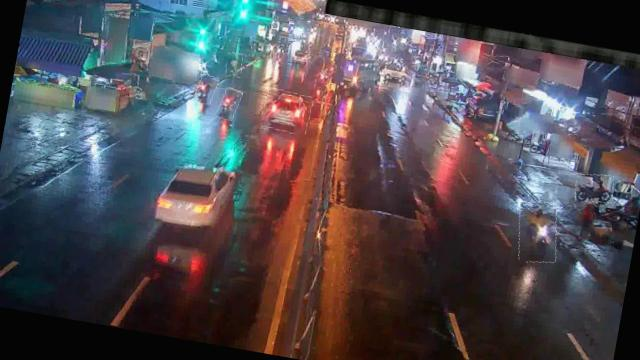Bike: (512, 198, 562, 265), (574, 170, 616, 206), (217, 86, 241, 121), (194, 73, 218, 105), (224, 52, 244, 78), (312, 74, 328, 102)
Car: (260, 87, 313, 135)
